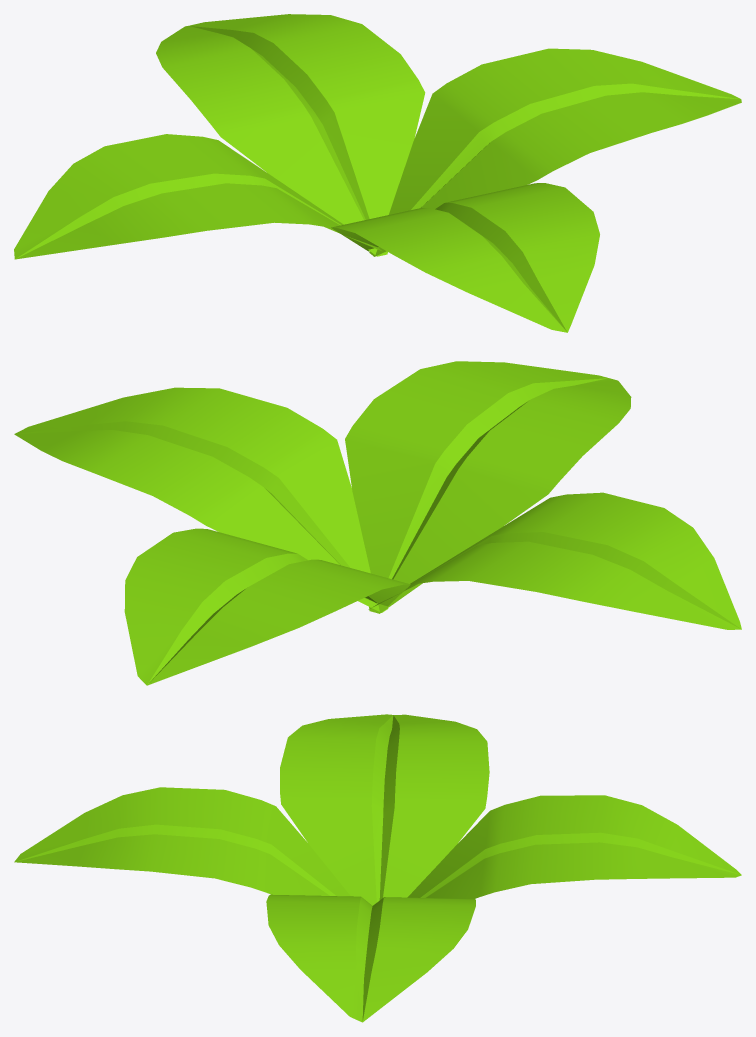
Rendered from Grass005.fbx.
3 views of the same model, one above another, from view 1: azimuth 30°, elevation 25°; view 2: azimuth 150°, elevation 25°; view 3: azimuth 270°, elevation 25° (orthographic). The views are drawn at different scales.
Parts seen in each view (by area): view 1: leaf; view 2: leaf; view 3: leaf.
Boxes of the visible parts, x1,y1,x2,y2 form: leaf: [14, 14, 741, 332]; leaf: [14, 361, 741, 685]; leaf: [14, 714, 741, 1022].
Bounding box in the file's own units: 55.55 × 8.49 × 55.55.
Materials: 1 (1 with a texture image).
